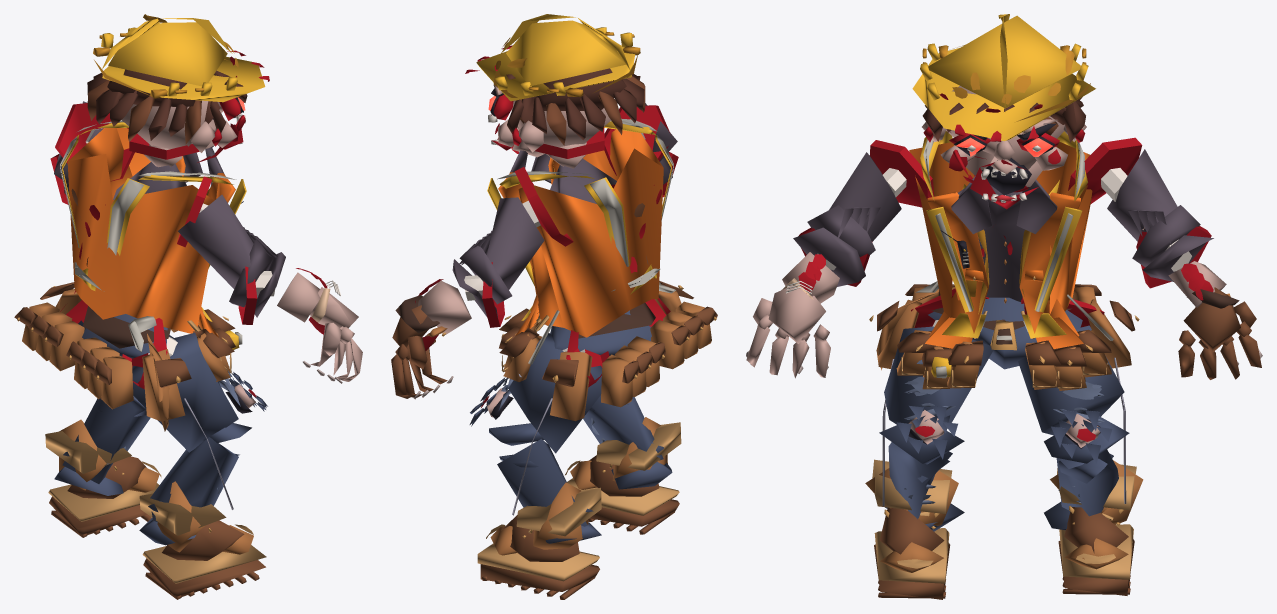
File: inf.construction-worker.lod2.glb
3 renders of one model, left to right at view 1: azimuth 30°, elevation 25°; view 2: azimuth 150°, elevation 25°; view 3: azimuth 270°, elevation 25°, orthographic. The views are drawn at different scales.
Visible parts, largest first — view 1: torso, head, hip, footR, footL, legR, shinR, armR, shinL, foreArmR, handR, stump_armL (+4 smaller); view 2: torso, head, hip, footL, footR, legL, shinL, handL, foreArmL, armL, shinR, stump_armL (+4 smaller); view 3: torso, head, hip, footR, footL, legL, legR, foreArmR, handL, handR, foreArmL, shinL (+6 smaller).
Boxes of the visible parts, x1,y1,x2,y2 form: torso: (60,120,246,337); head: (87,14,269,167); hip: (14,282,242,431); footR: (139,481,266,599); footL: (45,419,161,537); legR: (132,332,267,509); shinR: (139,423,251,545); armR: (178,194,277,288); shinL: (54,396,150,495); foreArmR: (229,239,340,322); handR: (303,287,362,383); stump_armL: (55,103,134,181); torso: (487,118,673,337); head: (465,14,645,168); hip: (499,281,717,421); footL: (477,482,601,599); footR: (565,417,681,534); legL: (469,333,602,515); shinL: (489,423,601,543); handL: (391,295,453,399); foreArmL: (415,244,512,334); armL: (459,197,544,289); shinR: (583,395,672,489); stump_armL: (514,167,573,246); torso: (909,131,1092,348); head: (912,14,1095,209); hip: (869,281,1139,390); footR: (865,459,958,599); footL: (1050,460,1143,595); legL: (1018,325,1126,503); legR: (882,326,993,506); foreArmR: (782,205,875,303); handL: (1178,287,1262,379); handR: (746,282,830,378); foreArmL: (1132,205,1226,307); shinL: (1044,416,1129,530).
Size of the model in its own units: 0.6009 by 1.5 by 1.26.
